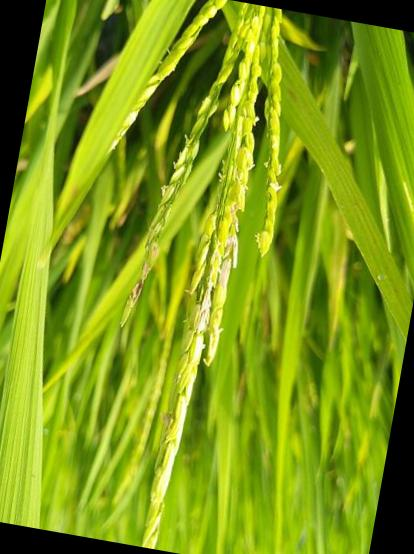Panicle Blight: (190, 180, 246, 364), (141, 369, 194, 549), (120, 251, 152, 327)
